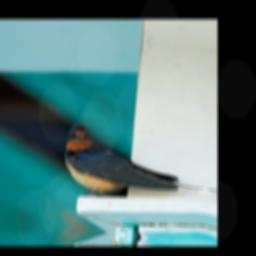Swallow: (58, 118, 208, 211)
